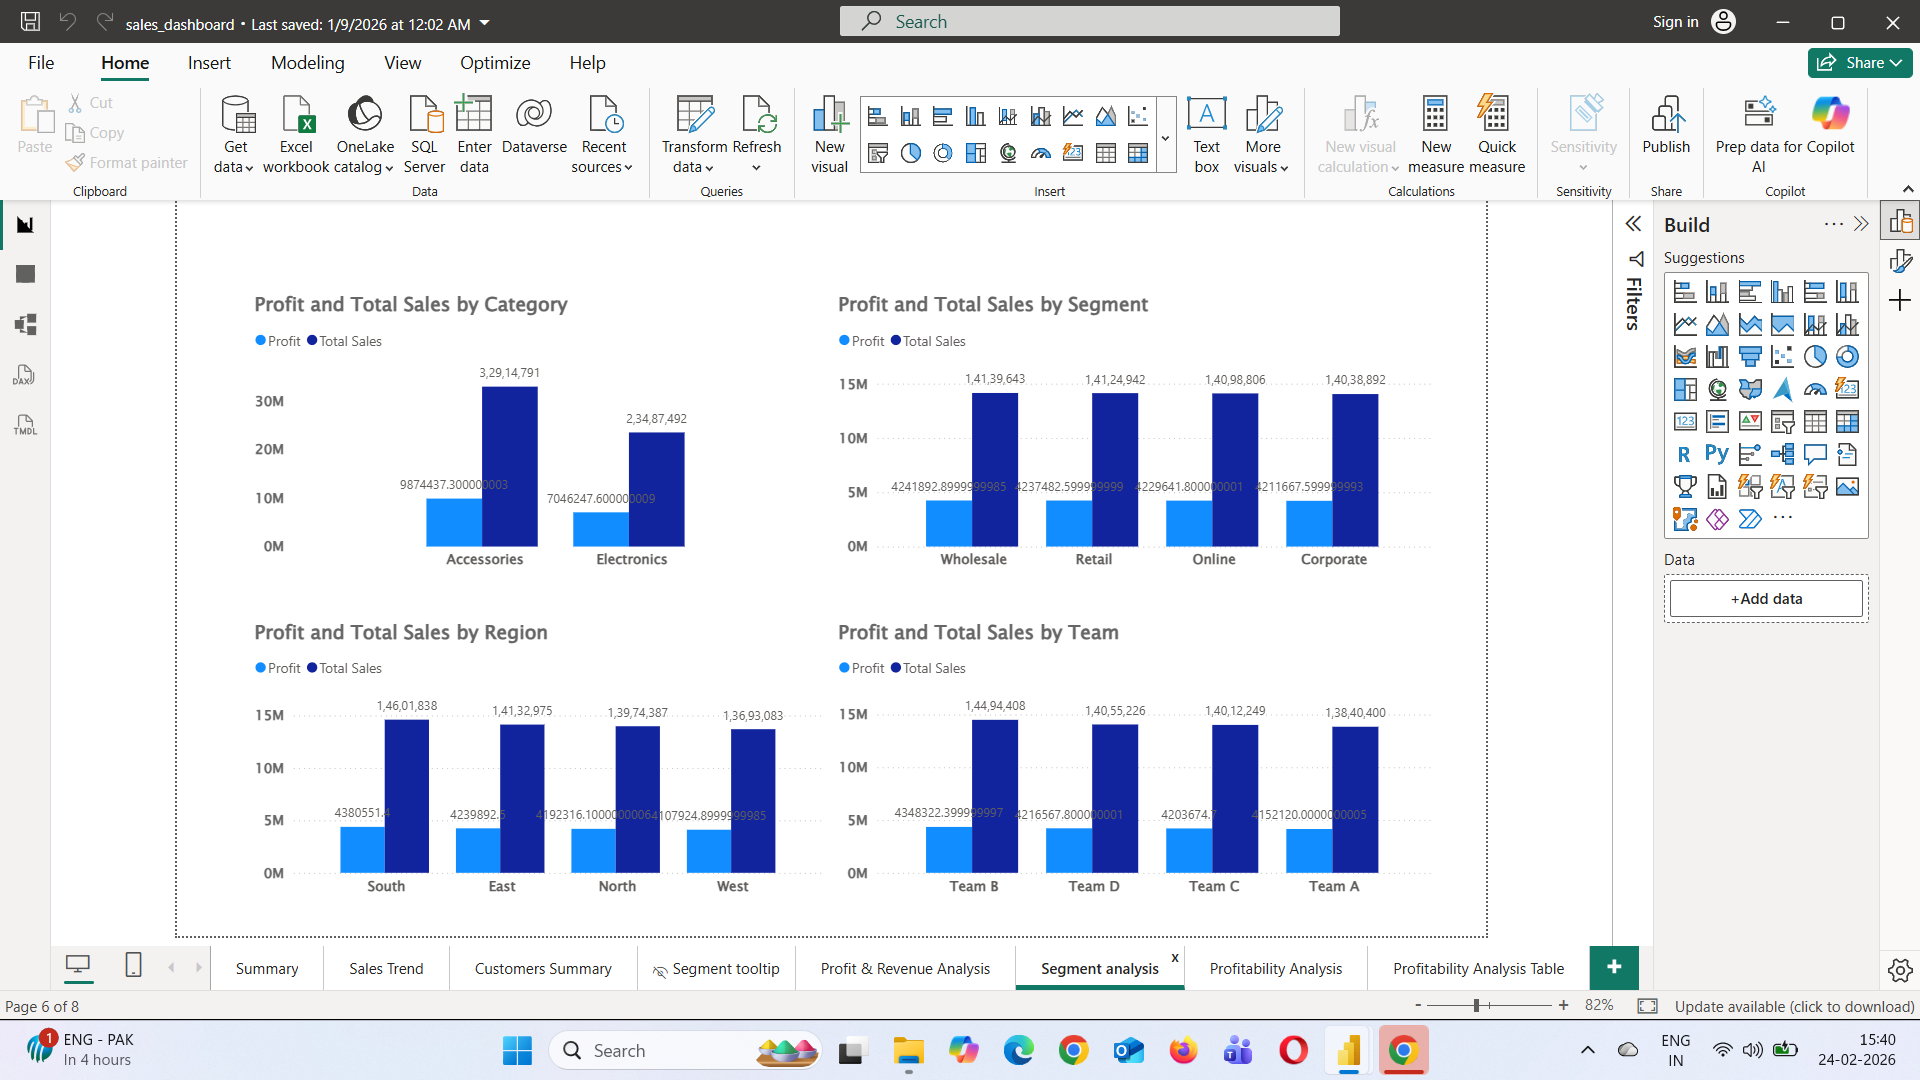

The page's visual inventory and layout, read from the dashboard file:
{"tool":"powerbi","page":{"name":"Segment analysis","canvas":[1280,720],"ordinal":5},"visuals":[{"type":"clusteredColumnChart","title":"Profit and Total Sales by Category","fields":{"Y":["Sum(SalesData.Profit)","_All Measures.Total Sales"],"Category":["SalesData.Category"]},"box":[70.9,88,566.2,284.9],"z":0},{"type":"clusteredColumnChart","title":"Profit and Total Sales by Segment","fields":{"Y":["Sum(SalesData.Profit)","_All Measures.Total Sales"],"Category":["SalesData.Segment"]},"box":[642,88,589.4,284.9],"z":1000},{"type":"clusteredColumnChart","title":"Profit and Total Sales by Region","fields":{"Y":["Sum(SalesData.Profit)","_All Measures.Total Sales"],"Category":["SalesData.Region"]},"box":[70.9,408.4,568.6,283.7],"z":2000},{"type":"clusteredColumnChart","title":"Profit and Total Sales by Team","fields":{"Y":["Sum(SalesData.Profit)","_All Measures.Total Sales"],"Category":["SalesData.Team"]},"box":[642,408.4,589.4,283.7],"z":3000}]}

Visuals, with their boxes on the page's 1280x720 design canvas (x1, y1, x2, y2). These are canvas units, not pixel positions in the 1920x1080 screenshot, which may show the page scaled, cropped or inside an application window:
"Profit and Total Sales by Category" clusteredColumnChart: bbox=[71, 88, 637, 373]
"Profit and Total Sales by Segment" clusteredColumnChart: bbox=[642, 88, 1231, 373]
"Profit and Total Sales by Region" clusteredColumnChart: bbox=[71, 408, 640, 692]
"Profit and Total Sales by Team" clusteredColumnChart: bbox=[642, 408, 1231, 692]
